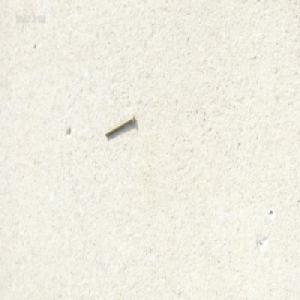Bolt: (103, 113, 134, 137)
